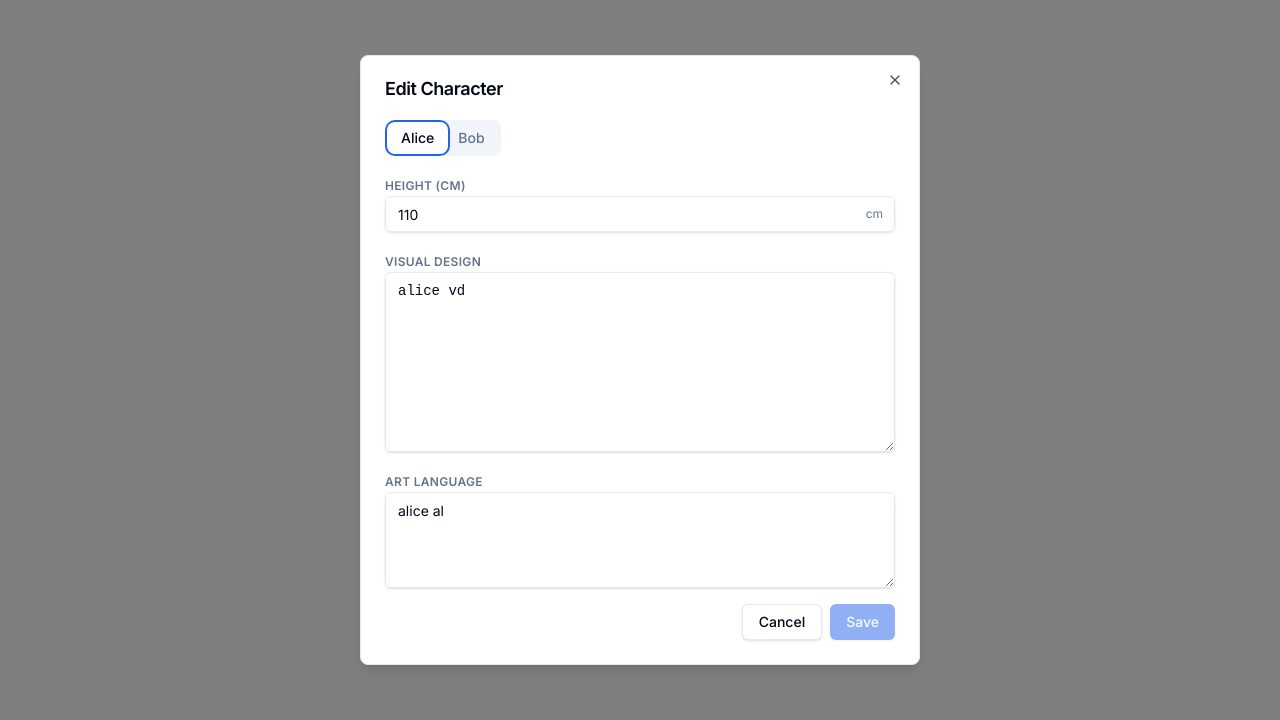
Scenario: EditBaseEntityModal — invalid-height tab marker › clears the marker once the offending tab is corrected
Replace the text in the field named "Height in centimeters" with "5001" at (640, 214), box [385,196,895,232]
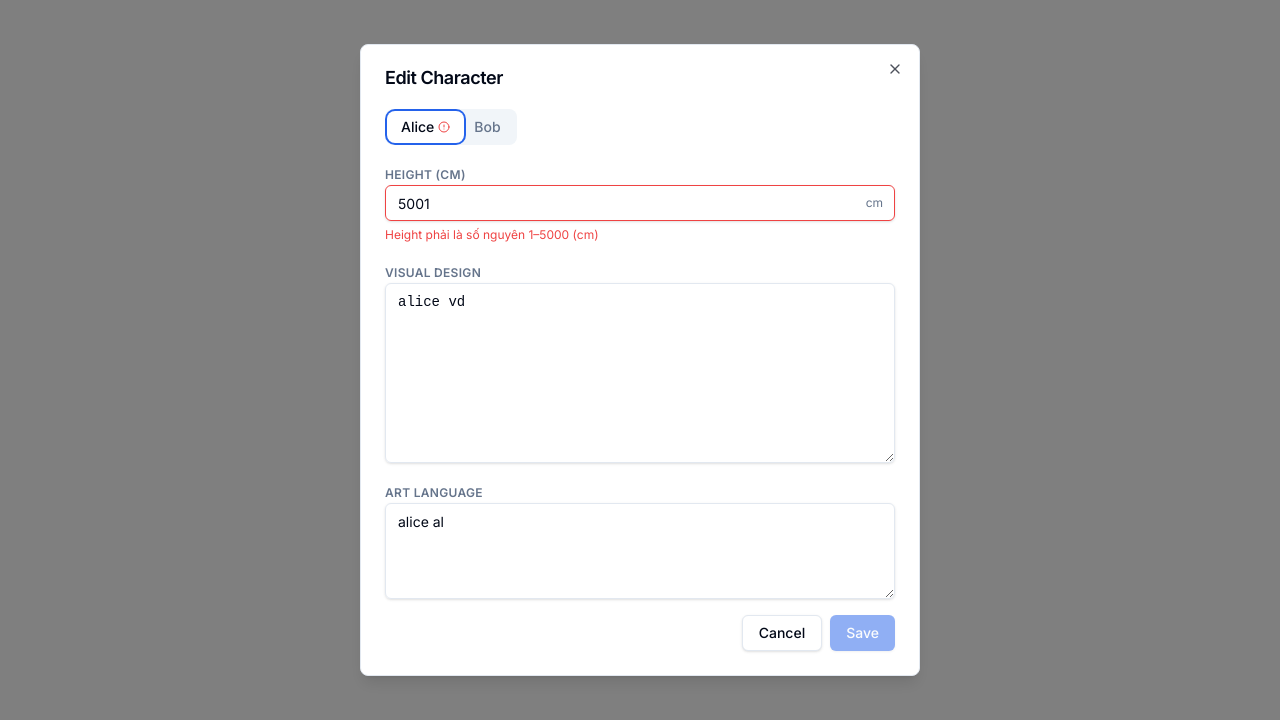
Click the tab "Bob" at (487, 127), box [462,113,513,141]
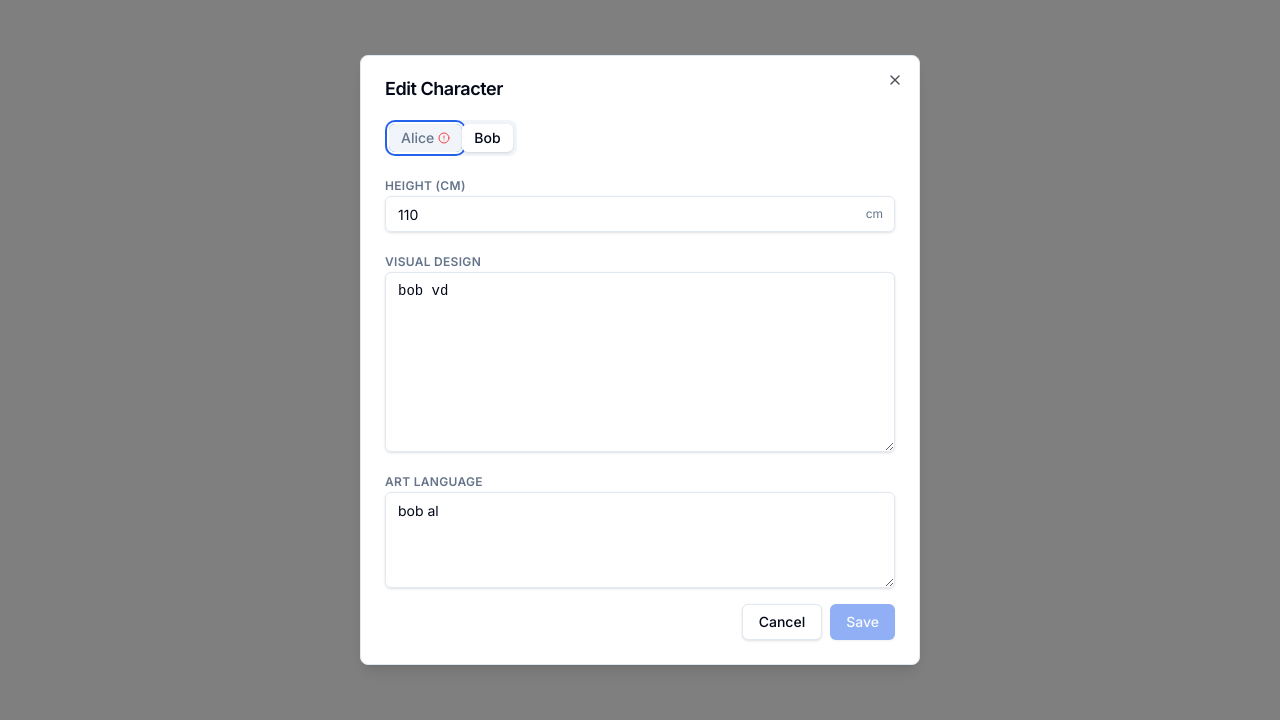
Expected: the picture named "Height không hợp lệ — số nguyên 1–5000 (cm)" is shown, [438,132,450,144]
Click the tab "Alice" at (426, 138), box [389,124,462,152]
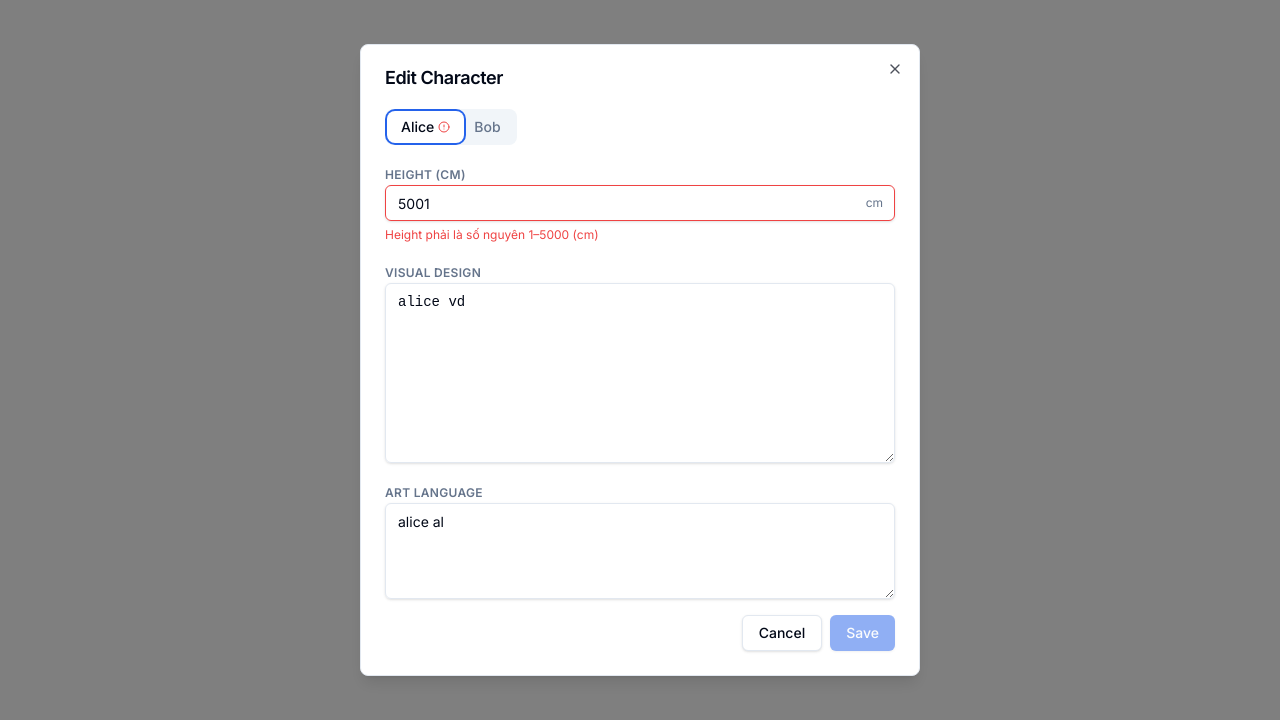
Replace the text in the field named "Height in centimeters" with "120" at (640, 203), box [385,185,895,221]
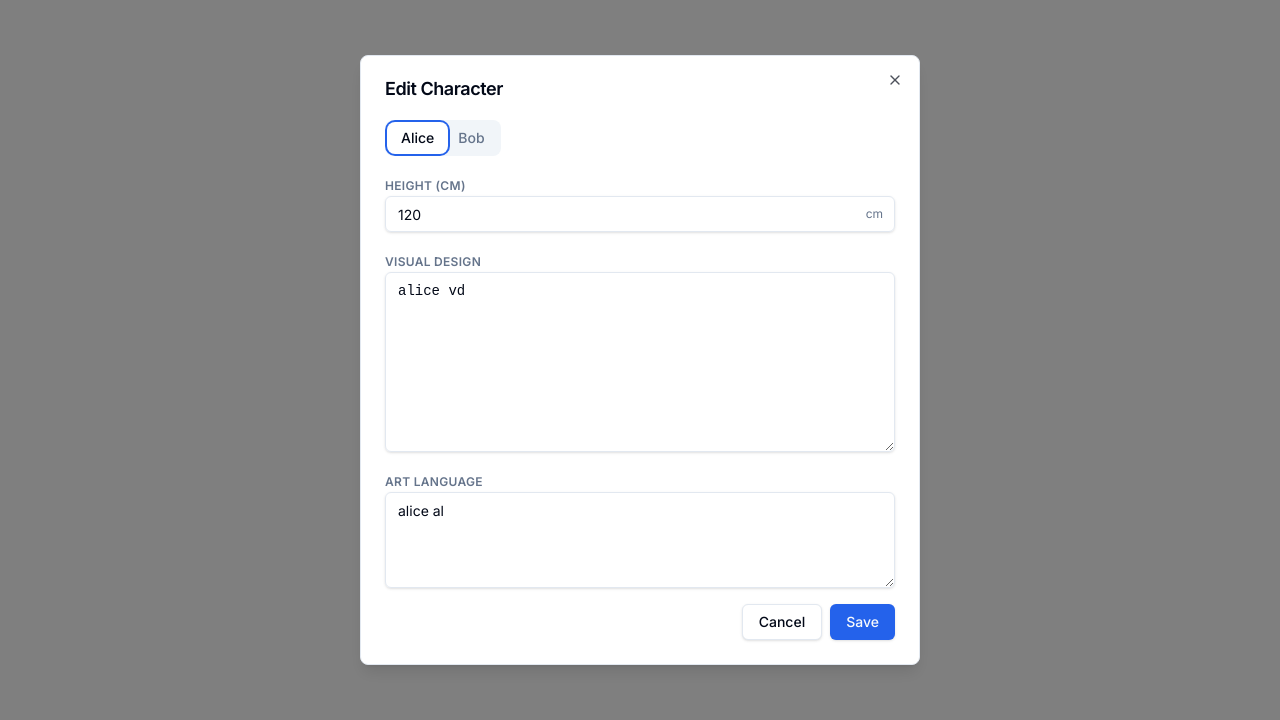
Expected: the button "Save" is enabled, [830,604,895,640]
